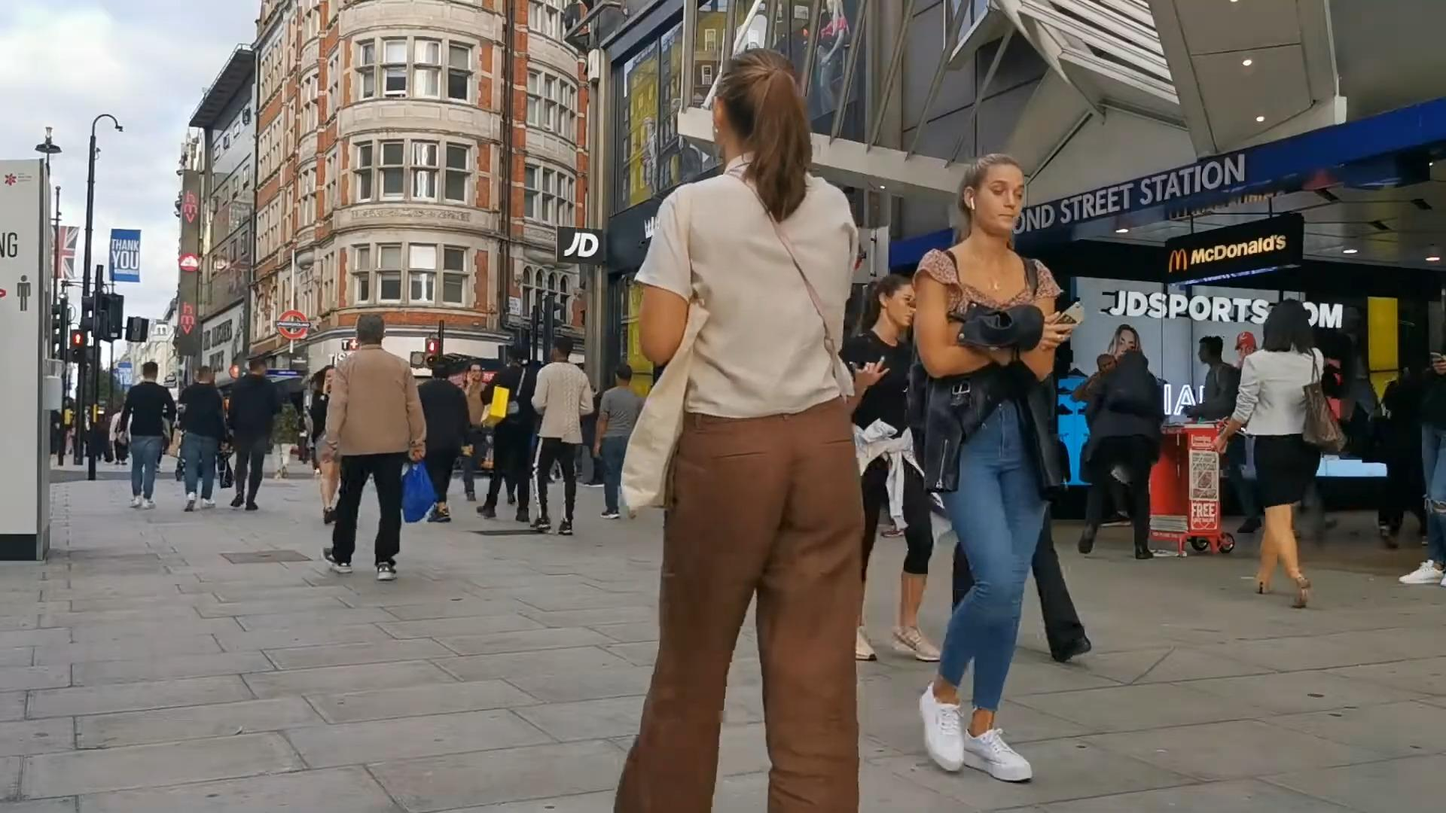no-helmet: (712, 48, 813, 169), (958, 153, 1024, 235), (860, 273, 916, 334), (1260, 298, 1316, 357), (356, 313, 386, 345), (1198, 335, 1223, 365), (548, 335, 573, 363), (1095, 353, 1117, 374), (315, 365, 334, 387), (615, 364, 633, 387), (249, 357, 268, 377), (467, 362, 485, 383), (142, 362, 158, 381)
